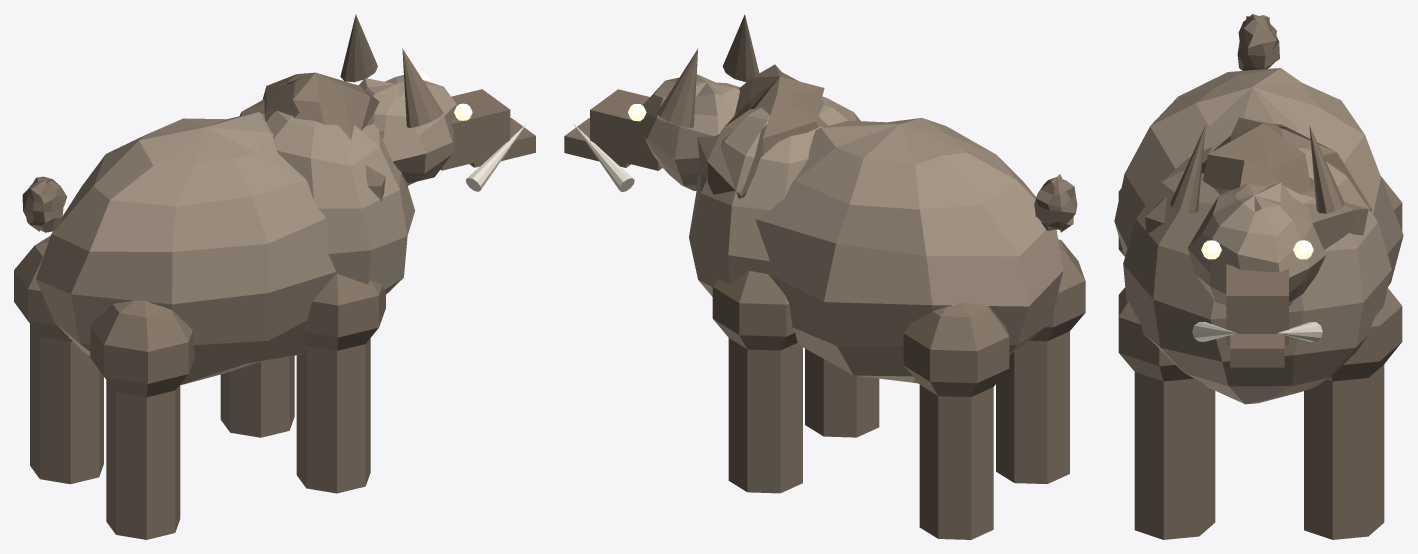
The model's file is boar.glb.
3 renders of one model, left to right at view 1: azimuth 30°, elevation 25°; view 2: azimuth 150°, elevation 25°; view 3: azimuth 270°, elevation 25°, orthographic. The views are drawn at different scales.
Visible parts, largest first — view 1: body, chest, legBR, legFR, legBL, hip.003, skull, mane, legFL, hip.001, snoutm, hip.002 (+5 smaller); view 2: body, chest, legBL, legFL, legBR, hip.002, mane, skull, hip, legFR, snoutm, hip.003 (+5 smaller); view 3: chest, body, legFR, legFL, skull, mane, snoutm, hip, hip.001, tail0, jaw, ear (+4 smaller).
Boxes of the visible parts, box(x1,y1,x2,y2) form: body: box(36, 112, 335, 385); chest: box(239, 99, 414, 294); legBR: box(106, 380, 180, 539); legFR: box(296, 338, 370, 493); legBL: box(30, 324, 103, 484); hip.003: box(90, 300, 194, 397); skull: box(358, 75, 456, 185); mane: box(262, 72, 408, 202); legFL: box(220, 355, 294, 437); hip.001: box(302, 274, 385, 350); snoutm: box(440, 89, 510, 170); hip.002: box(14, 235, 72, 341); body: box(755, 118, 1063, 383); chest: box(689, 96, 860, 296); legBL: box(919, 385, 993, 539); legFL: box(728, 338, 802, 493); legBR: box(996, 331, 1069, 484); hip.002: box(903, 303, 1009, 396); mane: box(695, 64, 827, 198); skull: box(639, 74, 740, 190); hip: box(712, 271, 797, 350); legFR: box(805, 348, 879, 437); snoutm: box(590, 89, 662, 170); hip.003: box(1028, 239, 1085, 341); chest: box(1123, 140, 1391, 404); body: box(1114, 68, 1403, 286); legFR: box(1134, 372, 1215, 539); legFL: box(1304, 364, 1384, 539); skull: box(1188, 182, 1325, 305); mane: box(1145, 117, 1371, 305); snoutm: box(1226, 264, 1288, 345); hip: box(1326, 288, 1402, 381); hip.001: box(1118, 287, 1193, 381); tail0: box(1237, 14, 1279, 70); jaw: box(1230, 334, 1284, 367); ear: box(1170, 125, 1205, 213).
Size of the model in its own units: 1.94 by 1.48 by 0.8741.
